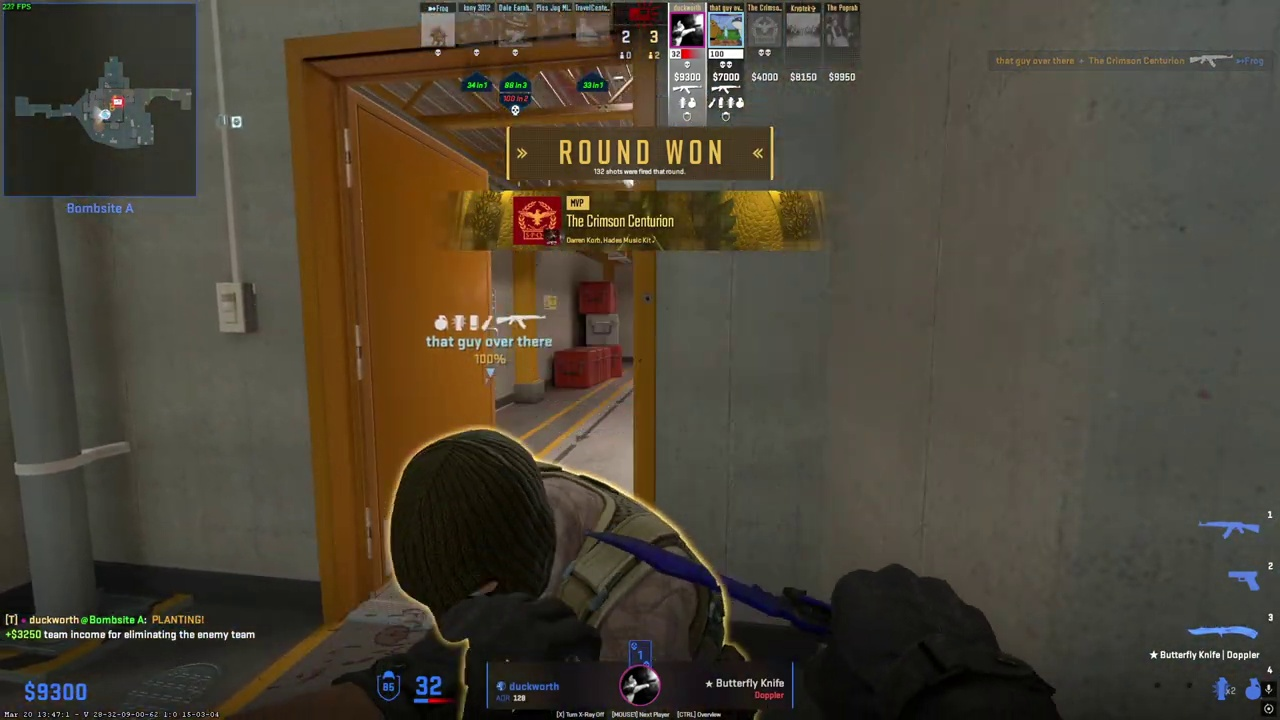Terrorist: (386, 429, 725, 720)
